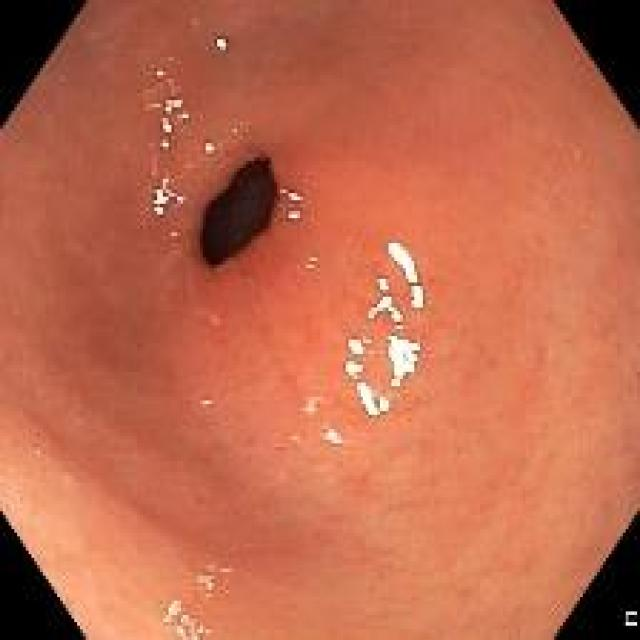bubbles: (302, 255, 319, 273), (198, 622, 211, 638)
contrast: (199, 157, 276, 269)
specularity: (385, 331, 420, 389), (387, 243, 421, 282), (367, 295, 404, 325), (355, 378, 379, 416), (345, 333, 372, 358), (341, 357, 365, 378), (411, 286, 427, 313), (152, 189, 168, 216), (323, 428, 340, 449), (375, 276, 390, 294), (163, 100, 179, 113), (165, 599, 178, 615), (378, 396, 390, 413), (214, 37, 228, 51), (286, 209, 301, 222), (201, 141, 214, 155), (287, 191, 302, 203), (160, 121, 173, 133), (160, 138, 171, 151), (178, 615, 189, 628), (173, 624, 184, 636), (181, 110, 187, 119)
